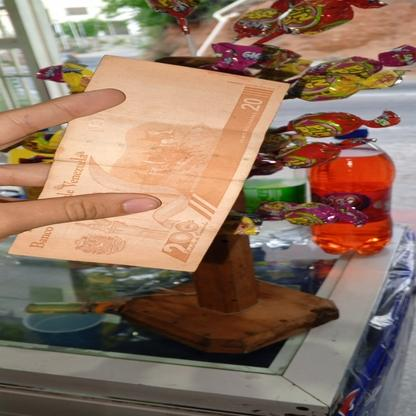twenty-back-vef: (7, 53, 291, 272)
